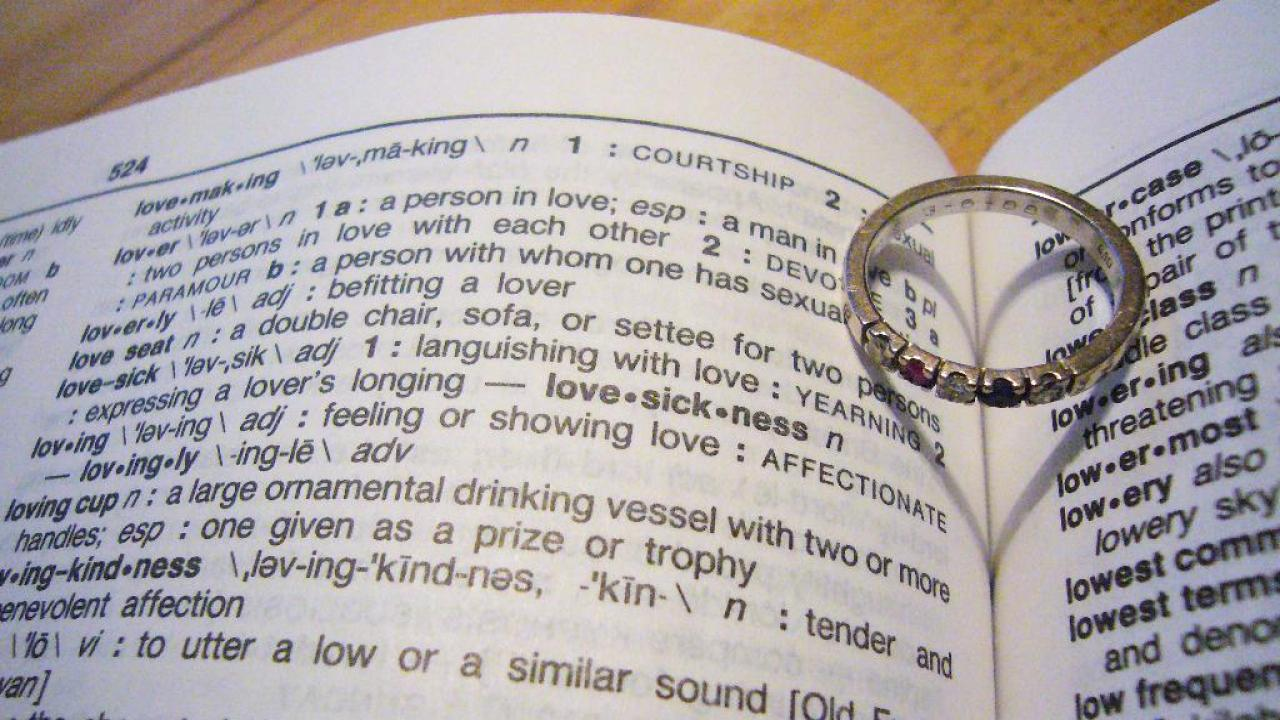ring: (843, 168, 1150, 407)
